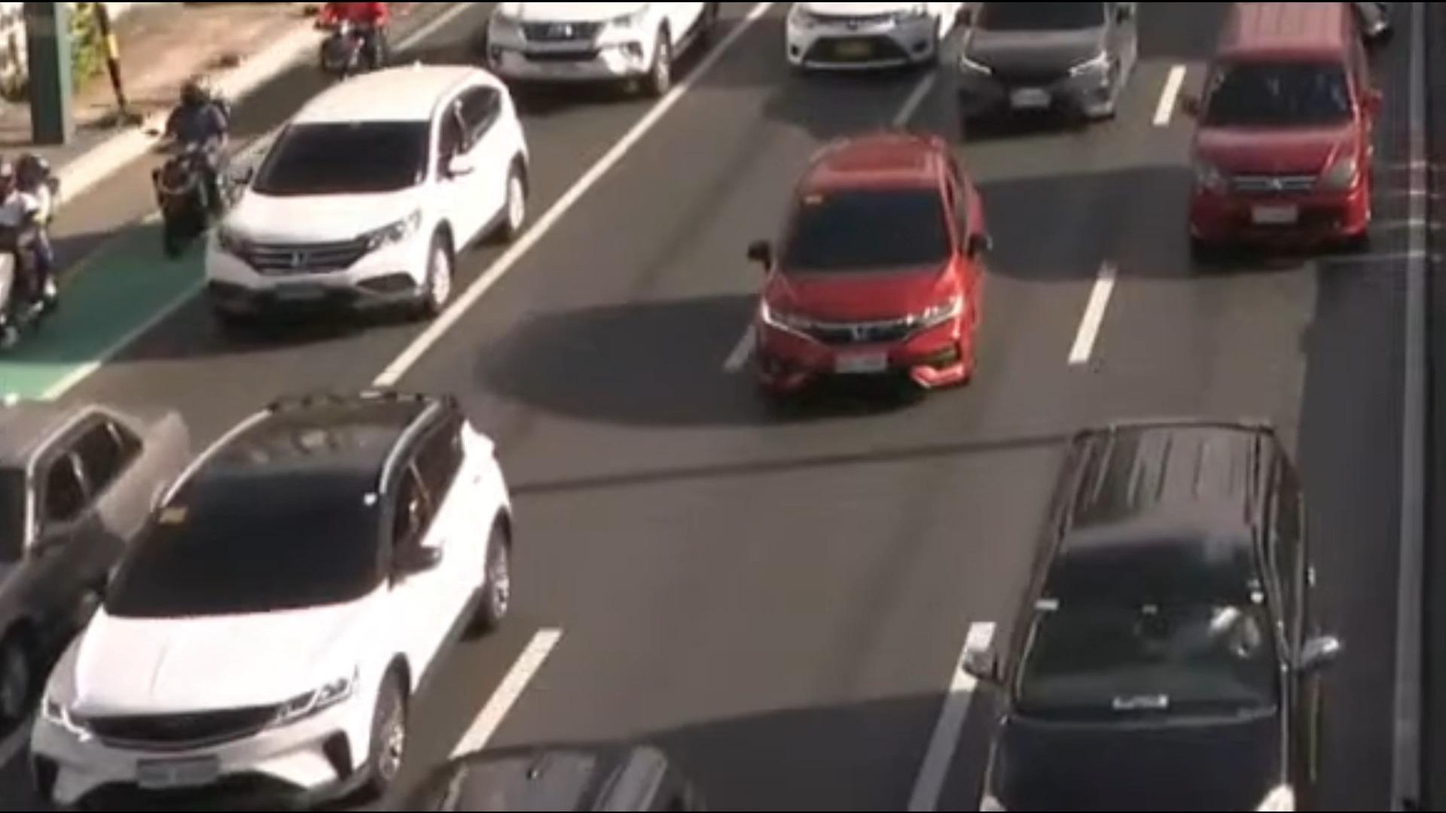Motorcycle: (123, 57, 236, 246), (0, 145, 72, 369), (308, 0, 396, 96)
SUV: (1, 373, 546, 813), (945, 397, 1365, 813), (171, 47, 541, 336), (728, 106, 1013, 434)
Sedan: (0, 364, 206, 696)
Van: (1152, 0, 1401, 280)
